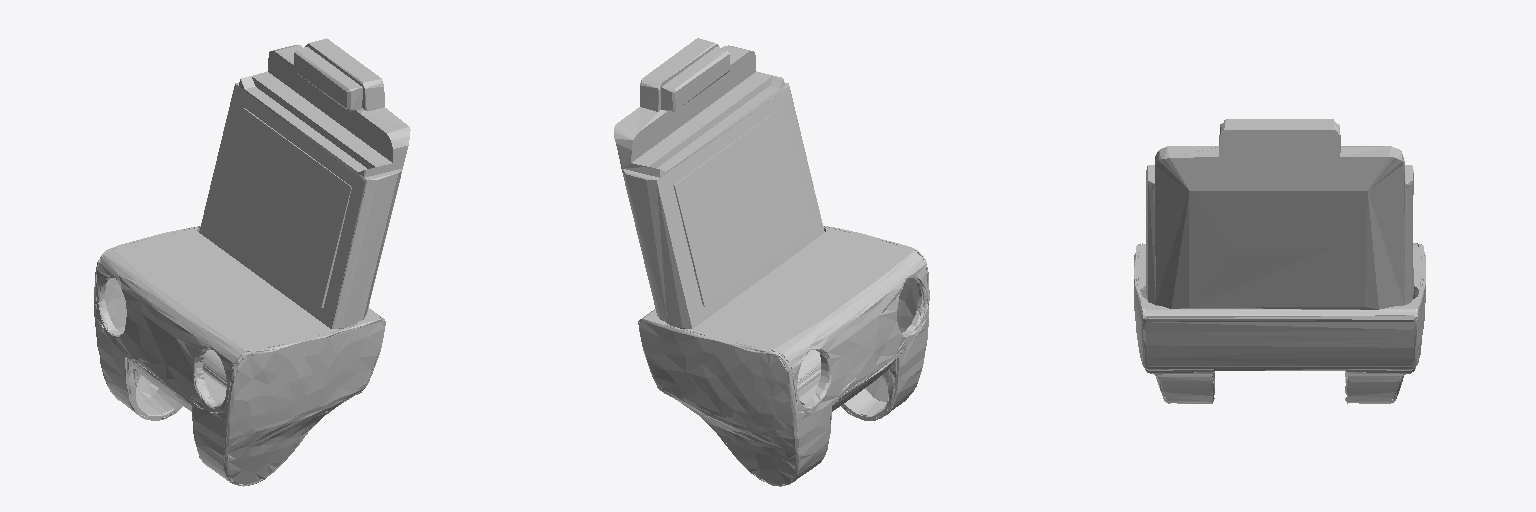
File: combinedHead.obj
3 renders of one model, left to right at view 1: azimuth 30°, elevation 25°; view 2: azimuth 150°, elevation 25°; view 3: azimuth 270°, elevation 25°, orthographic.
Visible parts, largest first — view 1: tablet_base, head_tilt, head_upper; view 2: tablet_base, head_tilt, head_upper; view 3: tablet_base, head_tilt, head_upper.
Boxes of the visible parts, x1=… form: tablet_base: x1=199, y1=38, x2=410, y2=328; head_tilt: x1=94, y1=226, x2=385, y2=486; head_upper: x1=96, y1=228, x2=340, y2=411; tablet_base: x1=614, y1=38, x2=824, y2=328; head_tilt: x1=638, y1=226, x2=929, y2=486; head_upper: x1=684, y1=227, x2=927, y2=412; tablet_base: x1=1146, y1=119, x2=1413, y2=309; head_tilt: x1=1134, y1=243, x2=1425, y2=403; head_upper: x1=1138, y1=243, x2=1421, y2=291.
Size of the model in its own units: 0.163 by 0.275 by 0.21.